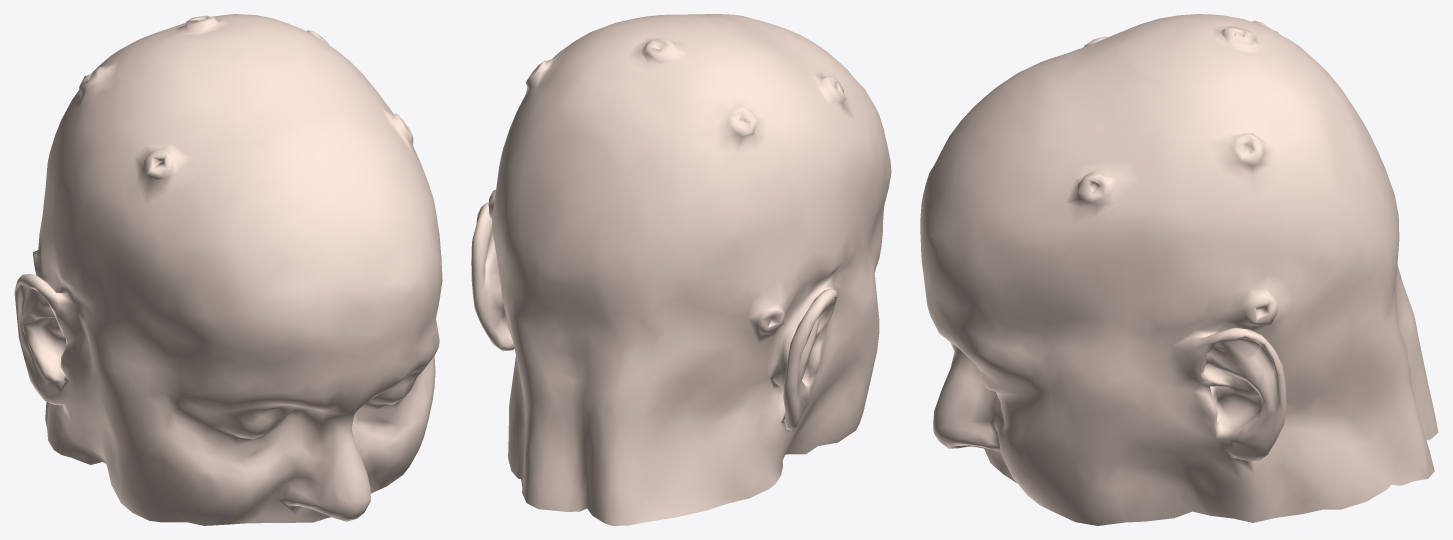
File: Unity2Skfb.gltf
3 renders of one model, left to right at view 1: azimuth 30°, elevation 25°; view 2: azimuth 150°, elevation 25°; view 3: azimuth 270°, elevation 25°, orthographic. The views are drawn at different scales.
Visible parts, largest first — view 1: transform; view 2: transform; view 3: transform.
Part boxes in pixels (<box>): transform: <box>14,14,442,525</box>; transform: <box>471,14,891,525</box>; transform: <box>920,14,1438,525</box>.
Size of the model in its own units: 0.1715 by 0.1912 by 0.21.
